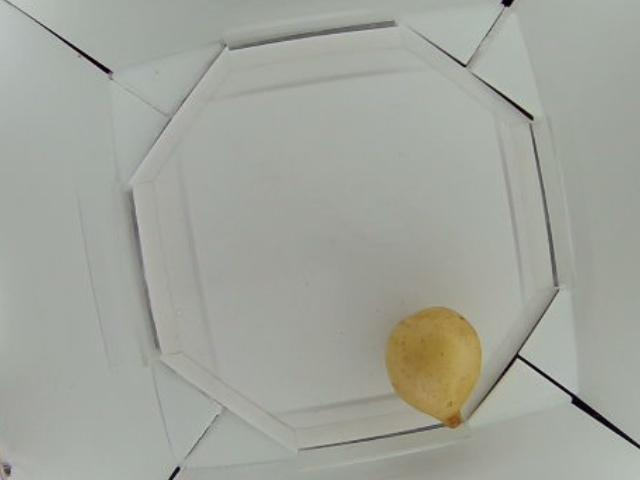Potato: (388, 305, 486, 429)
